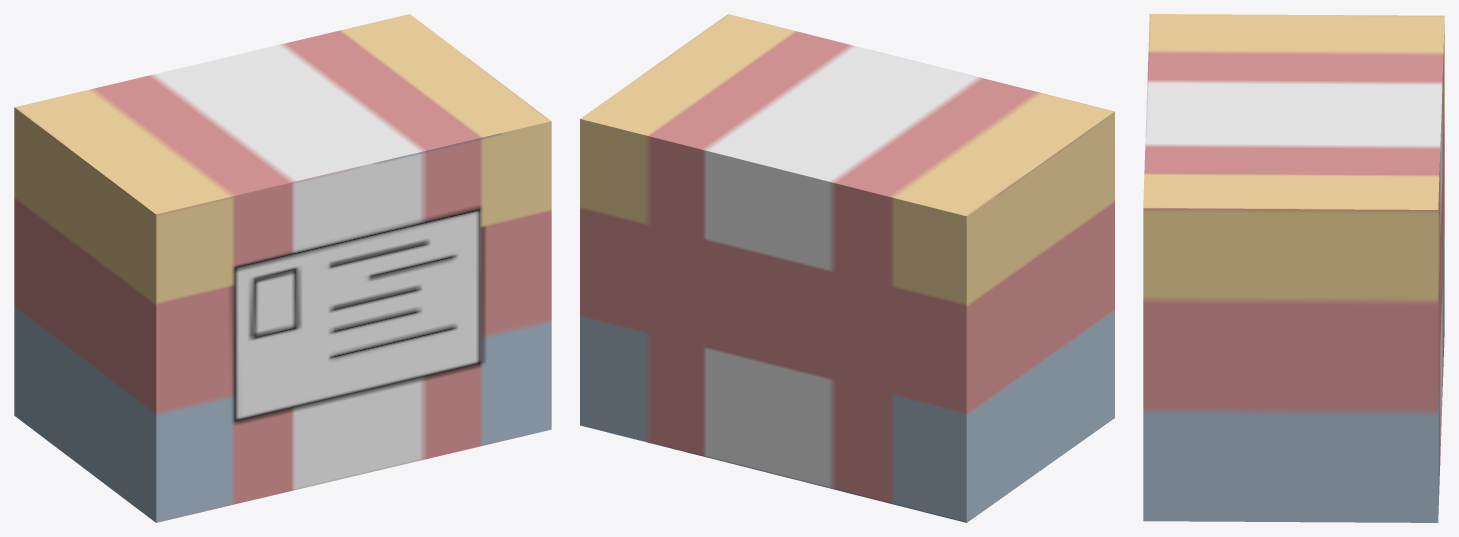
File: spugne.fbx
3 renders of one model, left to right at view 1: azimuth 30°, elevation 25°; view 2: azimuth 150°, elevation 25°; view 3: azimuth 270°, elevation 25°, orthographic. The views are drawn at different scales.
Parts seen in each view (by area): view 1: spugne; view 2: spugne; view 3: spugne.
Boxes of the visible parts, <box> form: spugne: <box>14,14,551,522</box>; spugne: <box>580,14,1114,522</box>; spugne: <box>1143,14,1444,522</box>.
Size of the model in its own units: 0.00926 by 0.00689 by 0.00602.
Materials: 1 (1 with a texture image).
